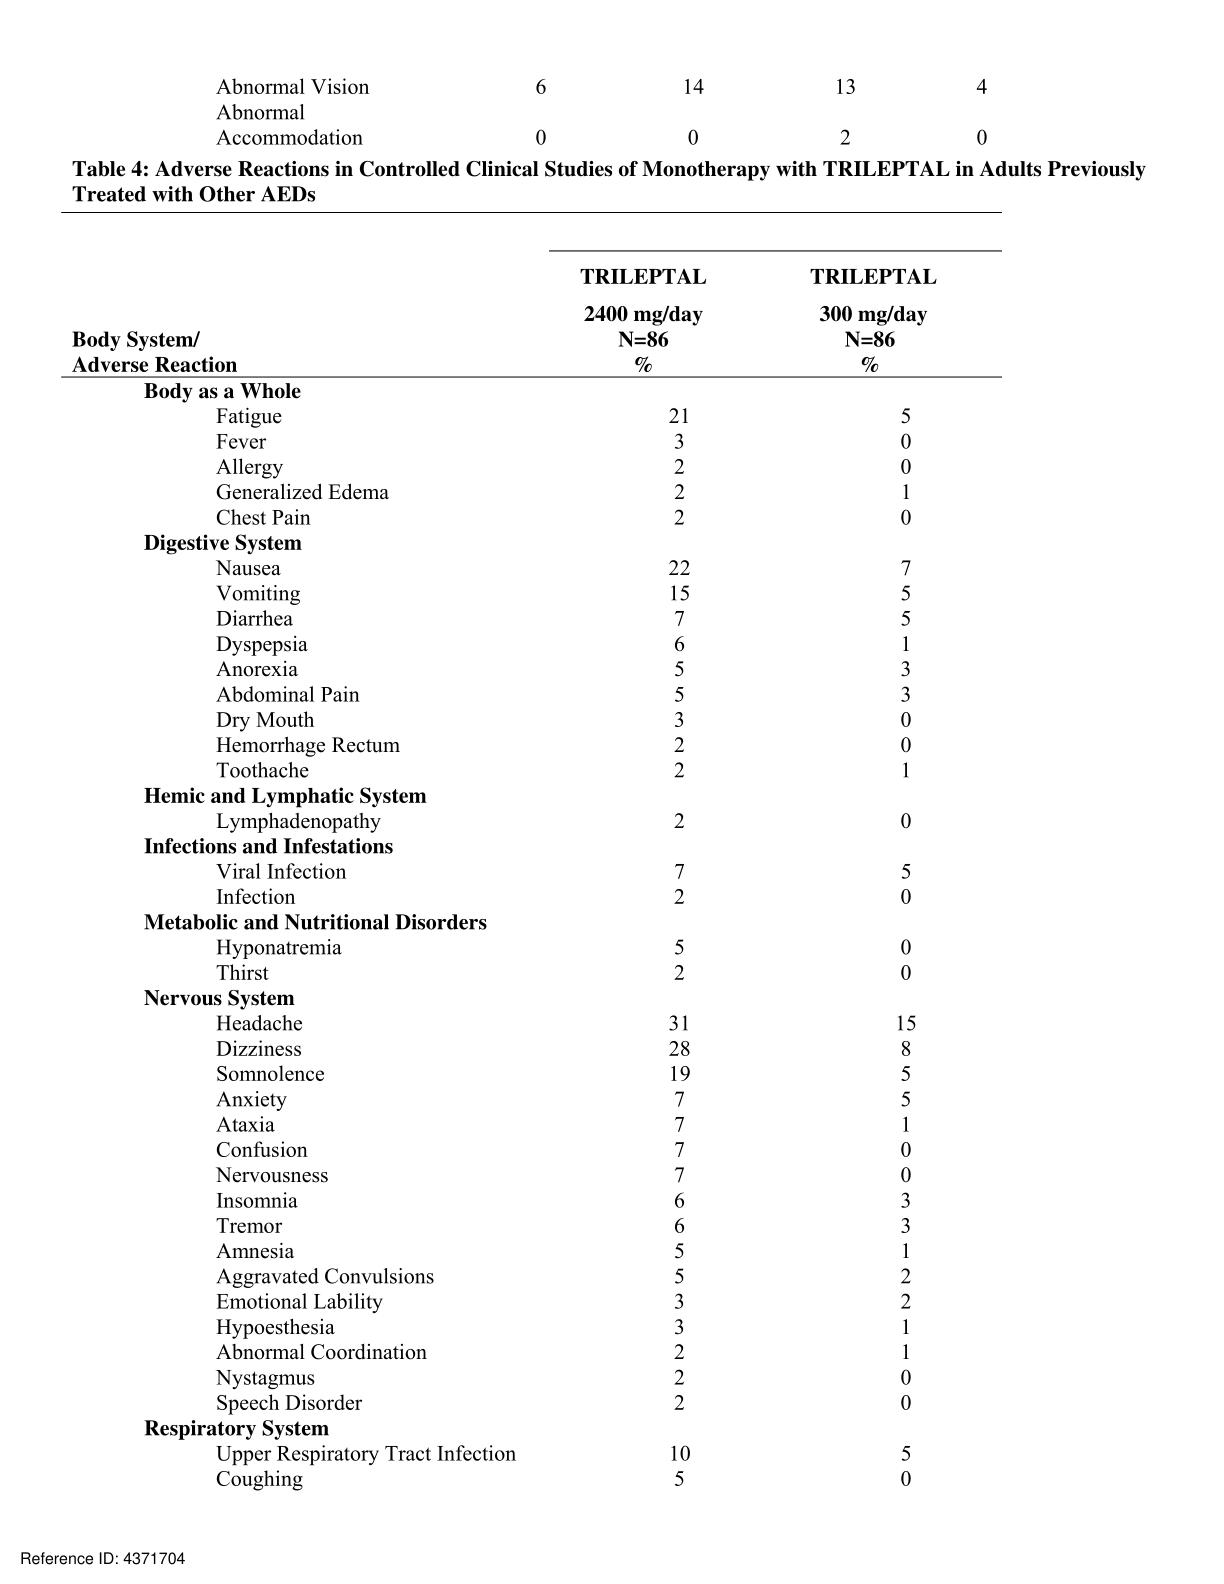partial_lined: (57, 211, 1003, 1495)
